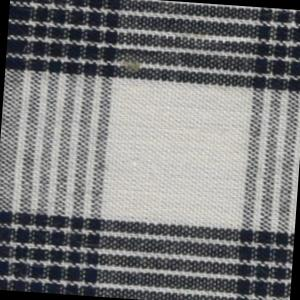Stain: (123, 60, 143, 76)
